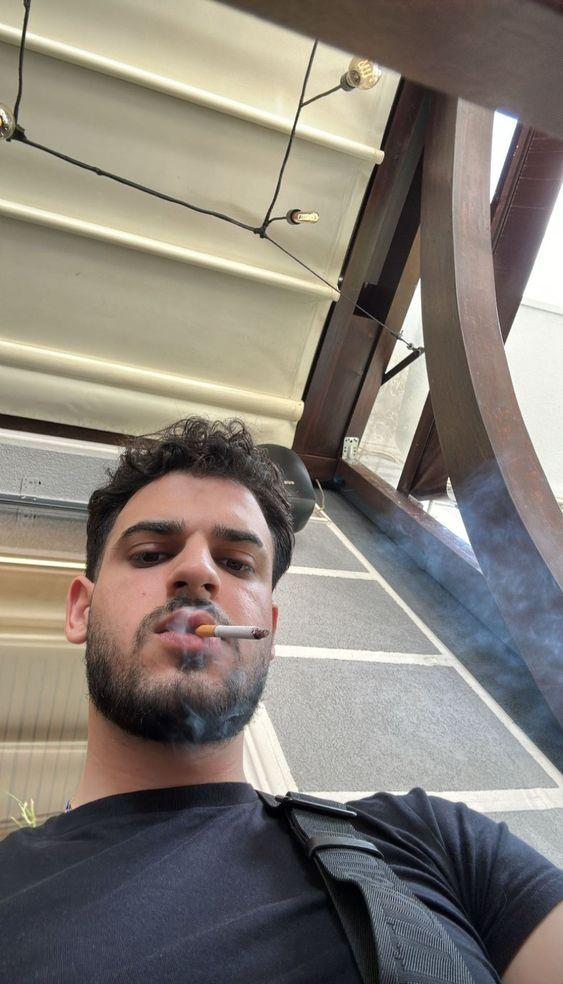cigarette: (194, 625, 271, 639)
